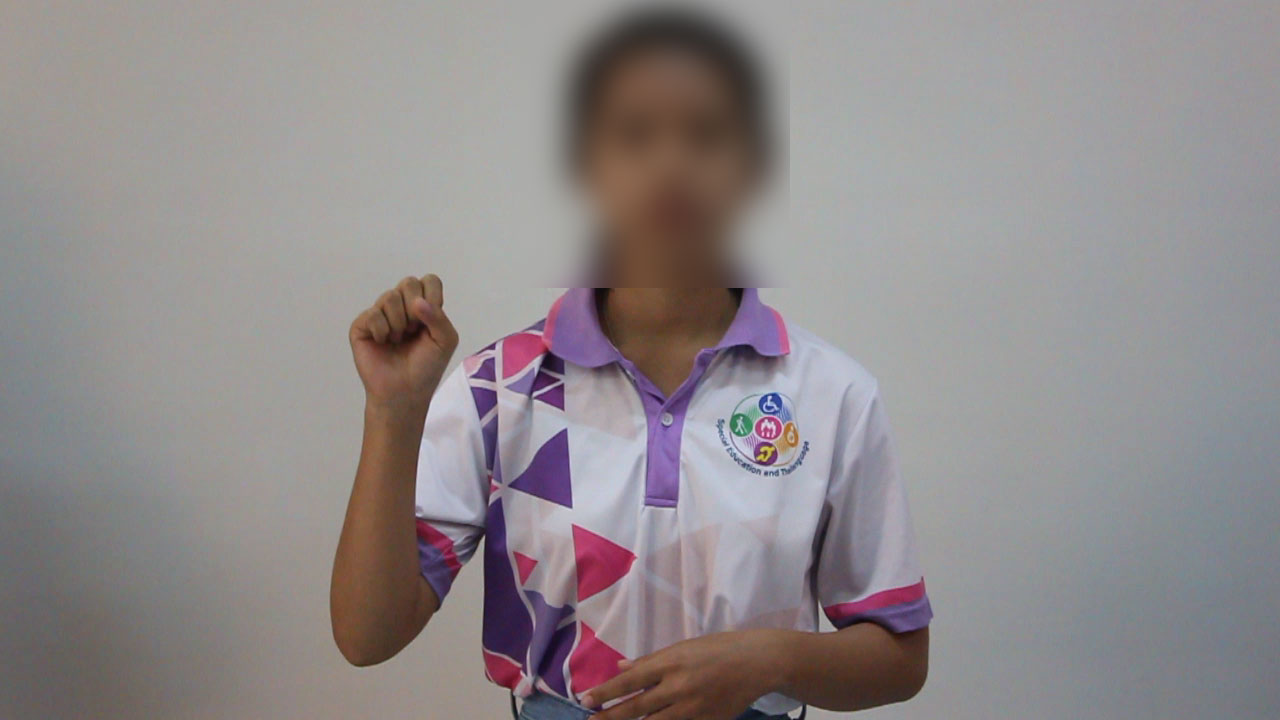sor: (338, 260, 468, 405)
